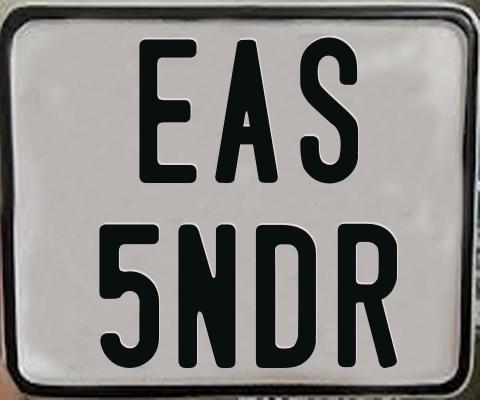5: (99, 222, 165, 370)
A: (215, 37, 281, 182)
D: (256, 224, 318, 367)
E: (137, 39, 197, 184)
N: (175, 221, 236, 370)
R: (336, 221, 399, 371)
S: (299, 35, 363, 182)
